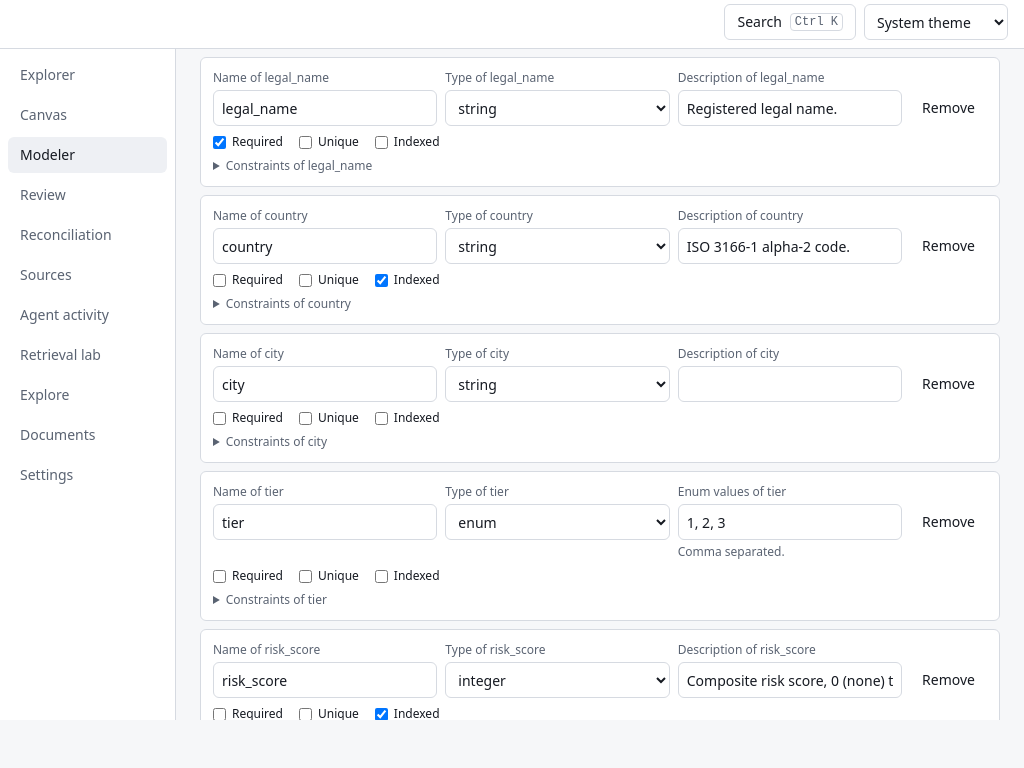
Test case: Modeler schema editor: two synchronized views › writes a form edit into the YAML
(page scrolled)
Select "text" in the dropdown labelled "Type of city": (558, 384) x1=445 y1=366 x2=670 y2=402
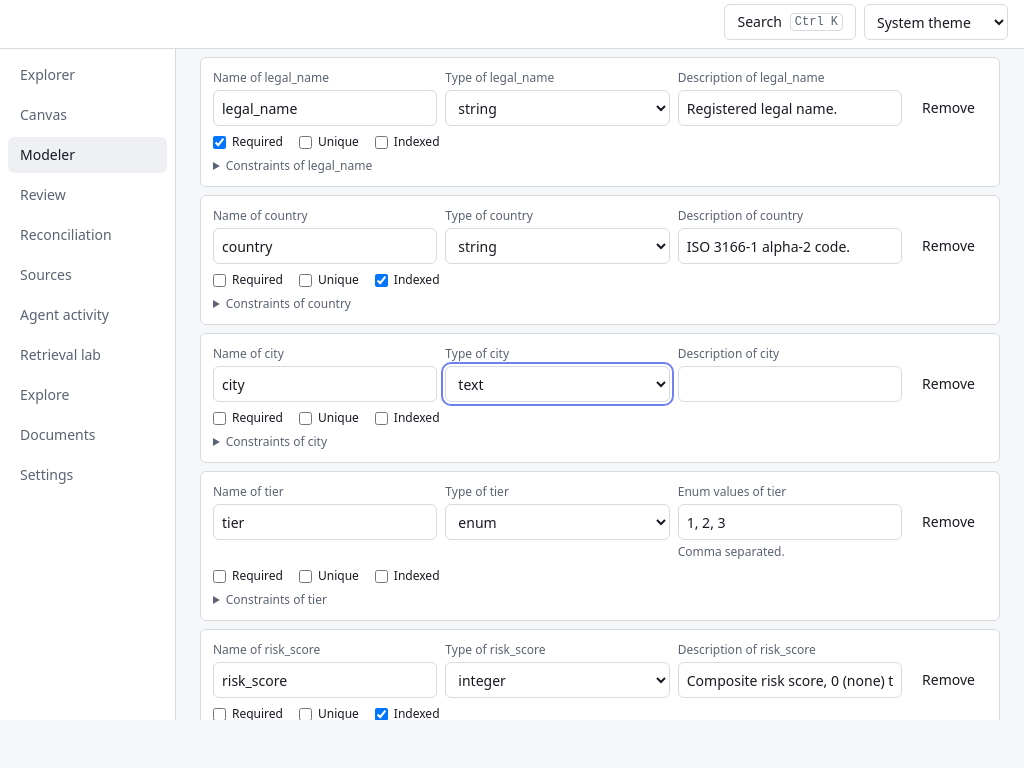
Click the checkbox named "Required: city": (220, 418) x1=213 y1=412 x2=226 y2=424
(page scrolled)
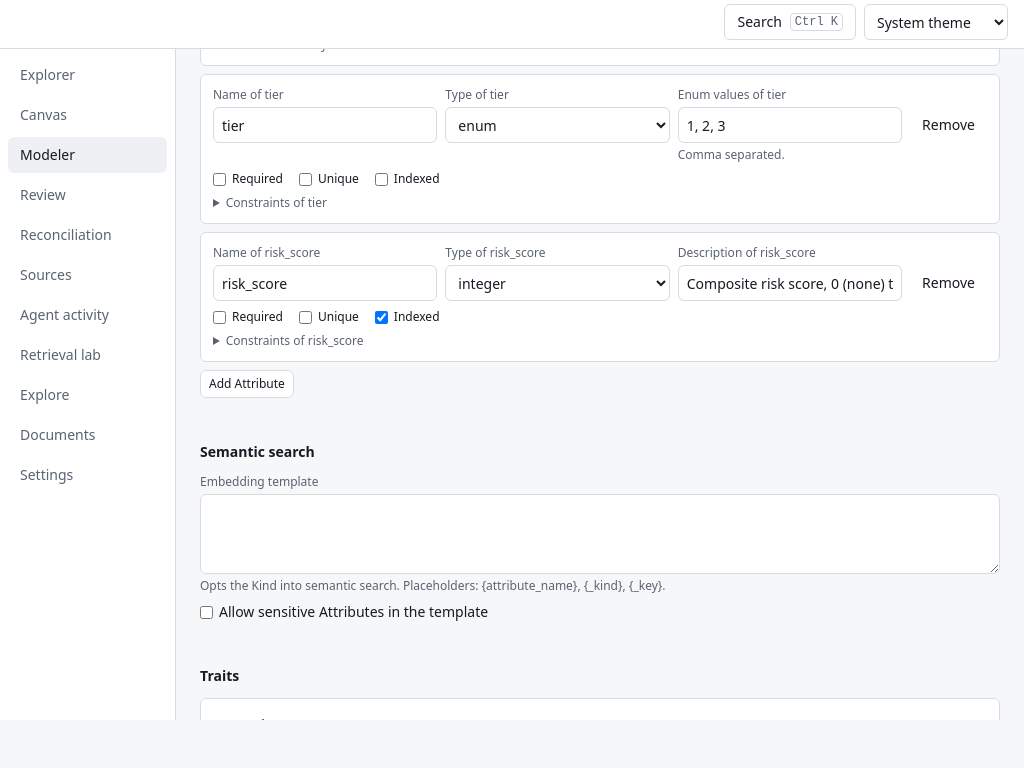
Click the button "Add Attribute": (247, 384) x1=200 y1=370 x2=294 y2=398
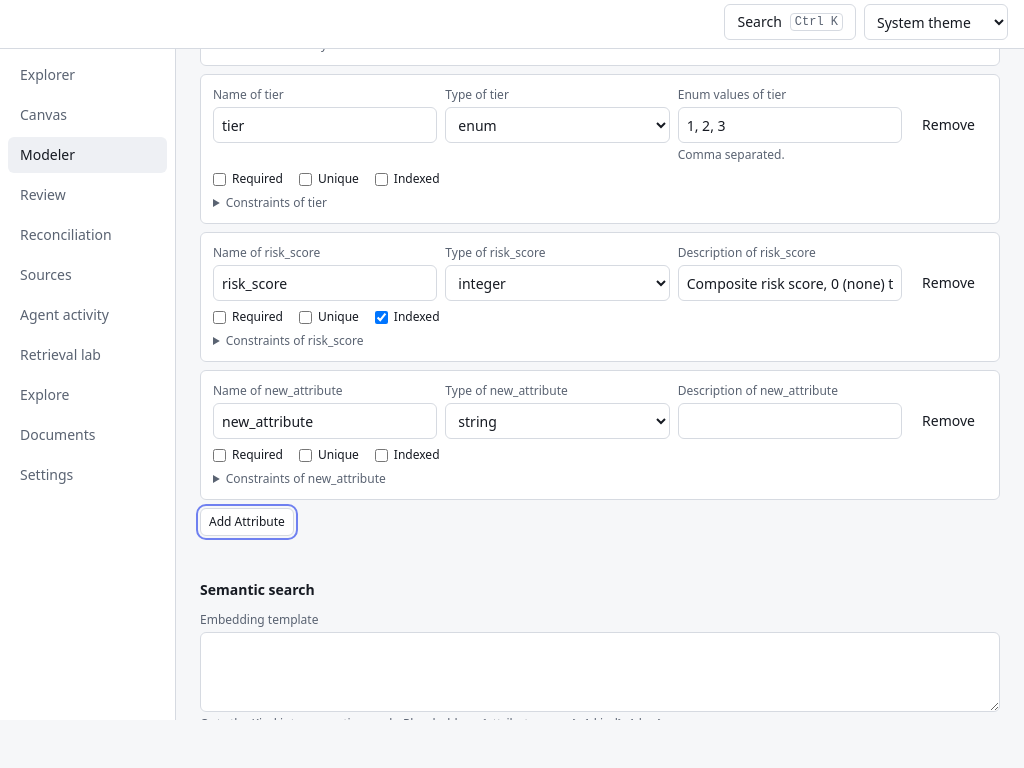
Check: the field labelled "Name of new_attribute" is shown, box x1=213 y1=403 x2=437 y2=439
